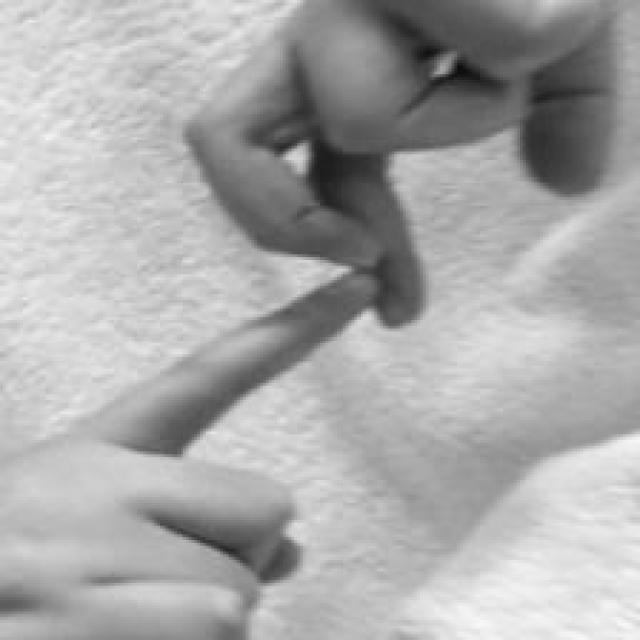R: (4, 2, 622, 640)
